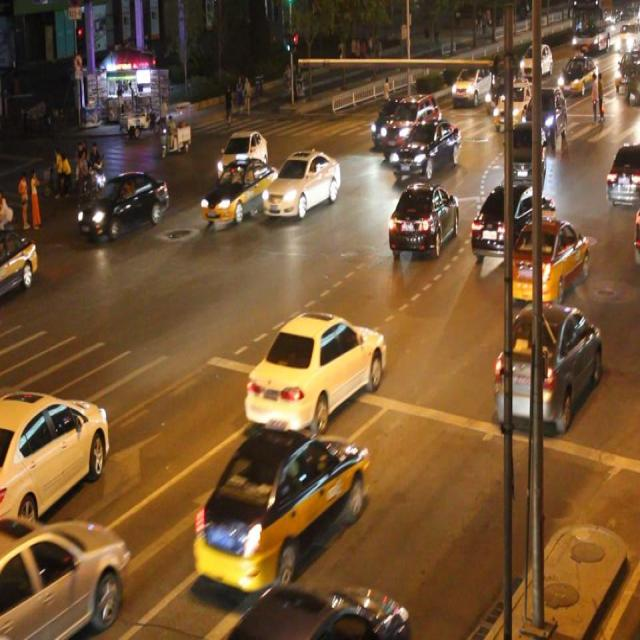car: (193, 426, 369, 592), (244, 310, 386, 432), (1, 388, 110, 540), (1, 519, 127, 640), (492, 301, 599, 428), (226, 584, 407, 640), (503, 217, 588, 302), (78, 171, 168, 239), (385, 180, 459, 256), (470, 183, 547, 256), (261, 148, 340, 217), (199, 160, 280, 224), (390, 118, 460, 182), (380, 92, 441, 156), (218, 128, 268, 183), (1, 227, 37, 294), (604, 142, 640, 206), (371, 96, 416, 146), (507, 122, 545, 180), (490, 80, 534, 130)
